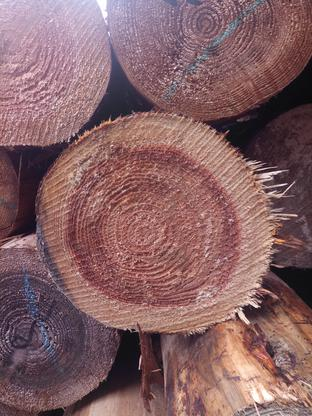mood: (36, 112, 276, 332)
